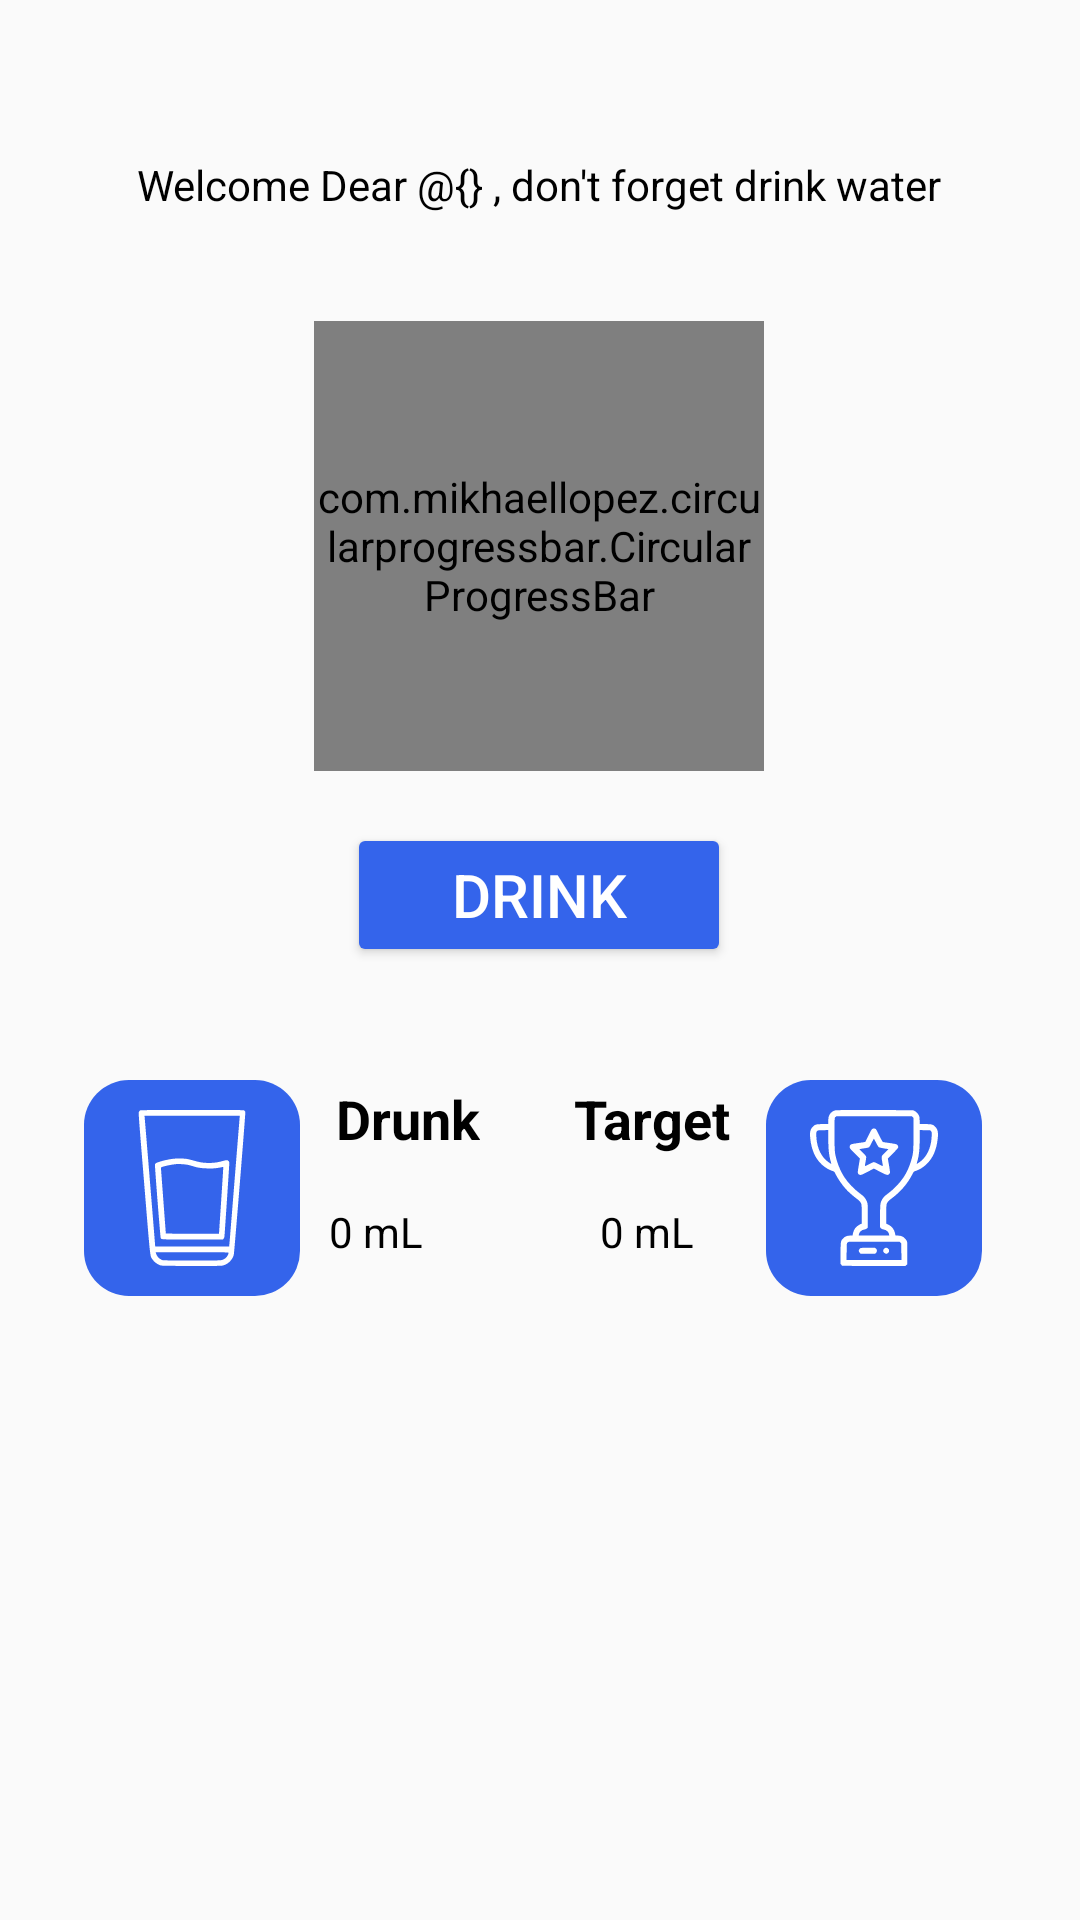

Screen size 1080px×1920px. Icon name, then its box in pixels as (x1, y1, x2, y2):
water: (84, 1080, 300, 1296)
